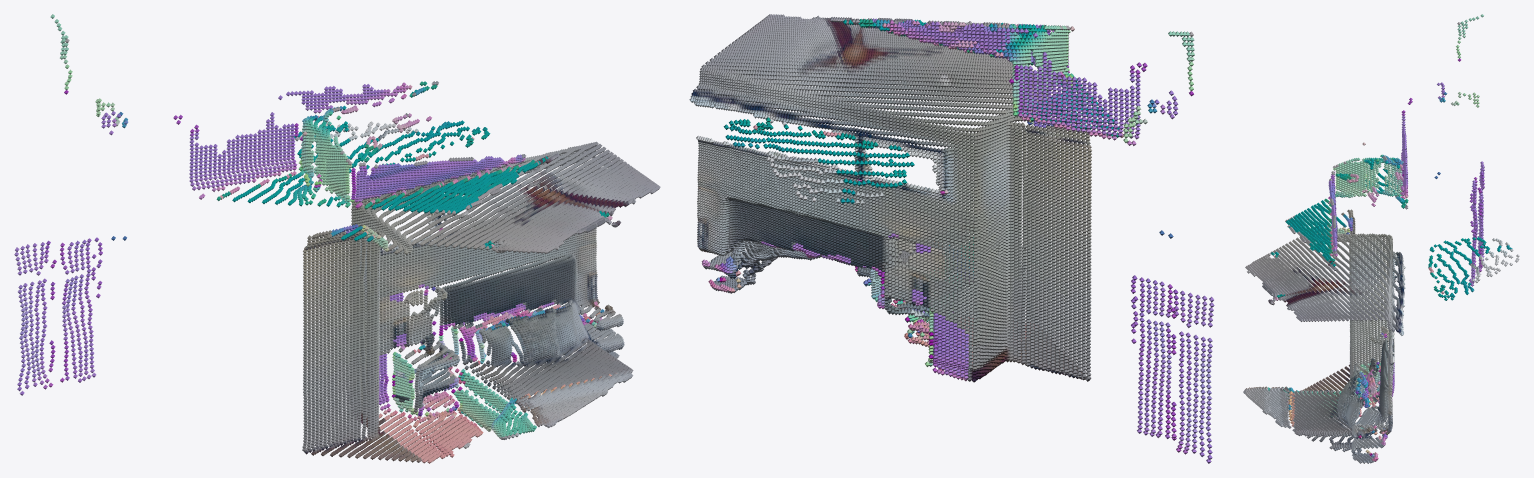
Rendered from combine_gt.glb.
3 renders of one model, left to right at view 1: azimuth 30°, elevation 25°; view 2: azimuth 150°, elevation 25°; view 3: azimuth 270°, elevation 25°, orthographic. The views are drawn at different scales.
Visible parts, largest first — view 1: world; view 2: world; view 3: world.
Boxes of the visible parts, left/top/right/bottom form: world: left=14, top=14, right=660, bottom=463; world: left=689, top=14, right=1214, bottom=463; world: left=1243, top=14, right=1519, bottom=463.
Bounding box in the file's own units: 6.38 × 4.87 × 4.13.
